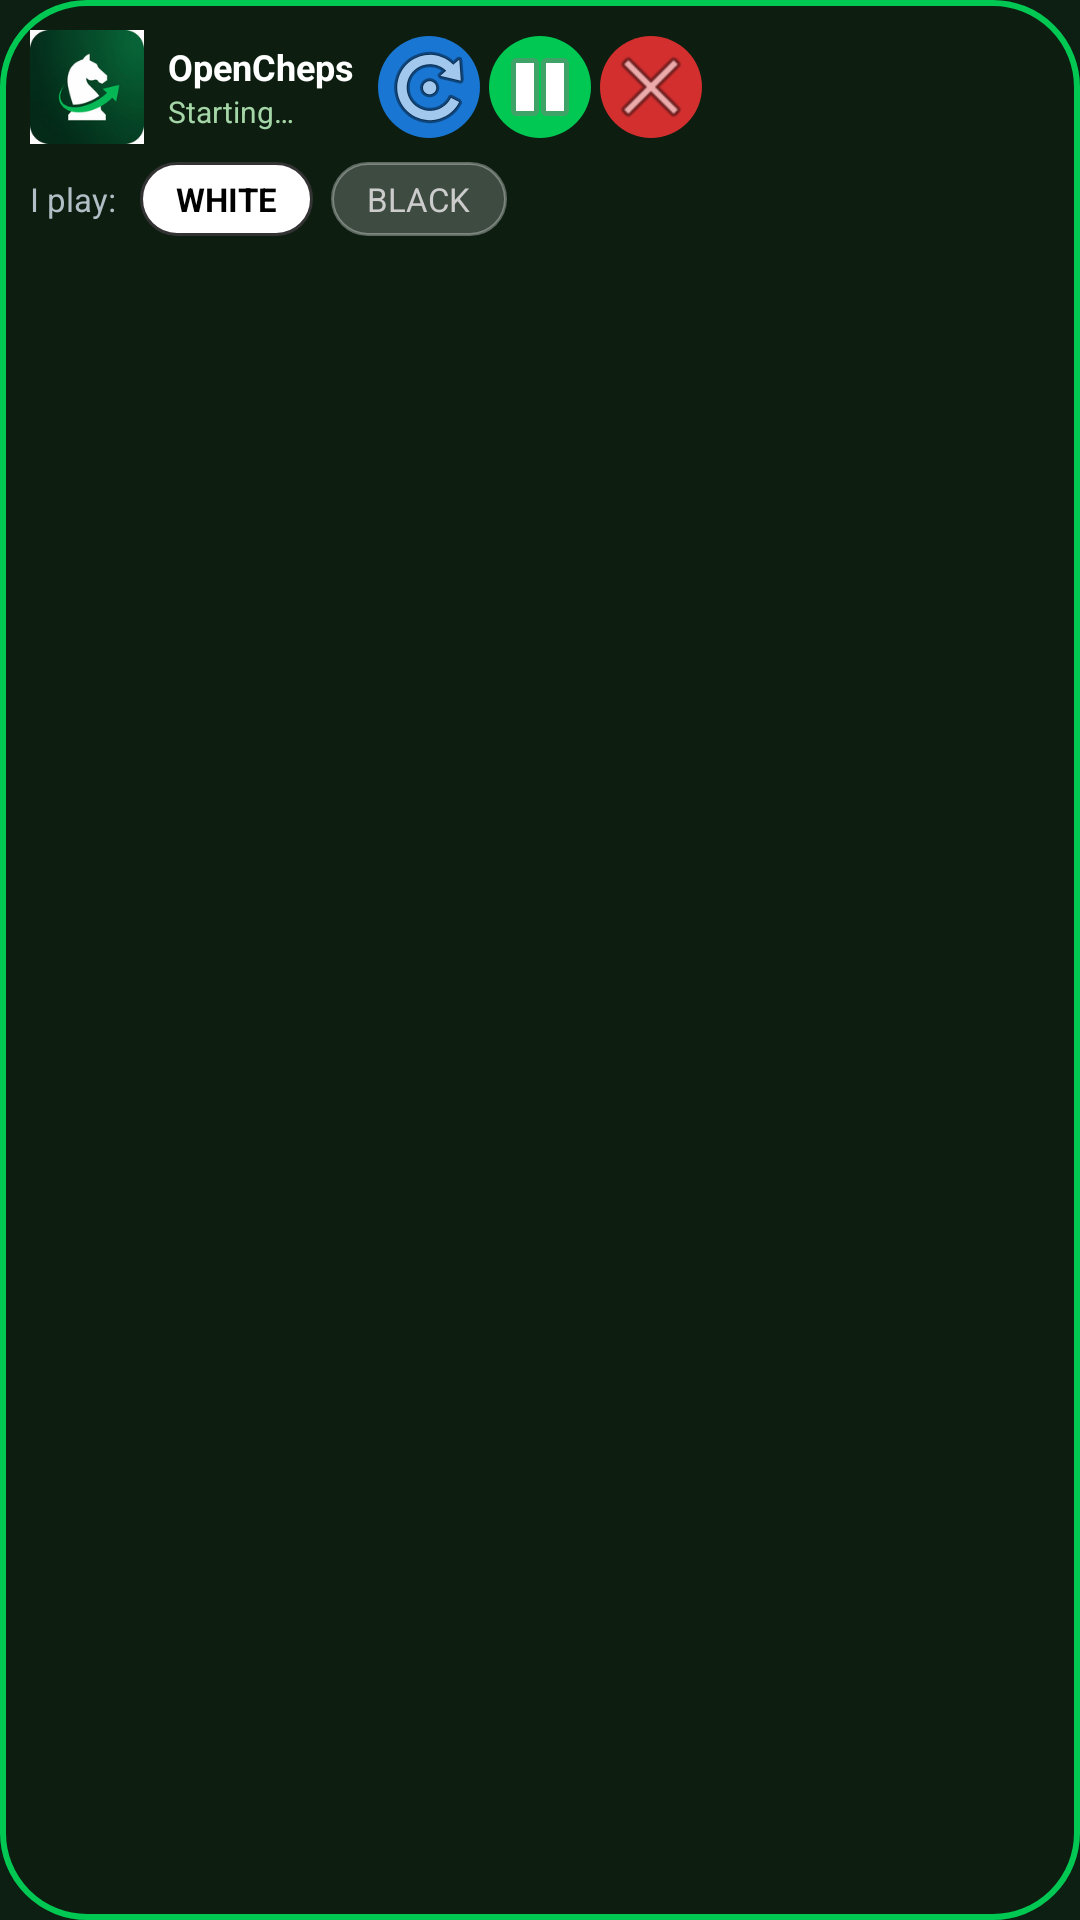

Icon click points for this 1080px×1920px phone screenshot, format (x,y):
Pause: (540,87)
Recalibrate: (429,87)
Stop: (651,87)
